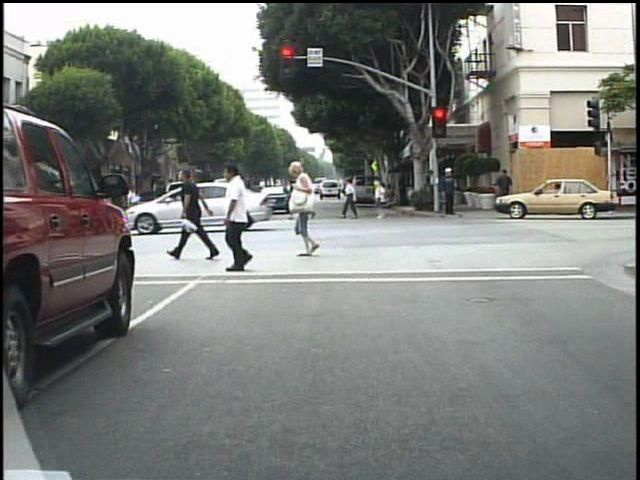person: (212, 164, 276, 279), (175, 161, 222, 265), (287, 164, 336, 261), (436, 163, 457, 221), (299, 171, 320, 224), (342, 175, 363, 224), (281, 176, 302, 224), (154, 178, 171, 232), (119, 178, 137, 227), (495, 167, 513, 214), (4, 190, 22, 237), (8, 198, 25, 237)
